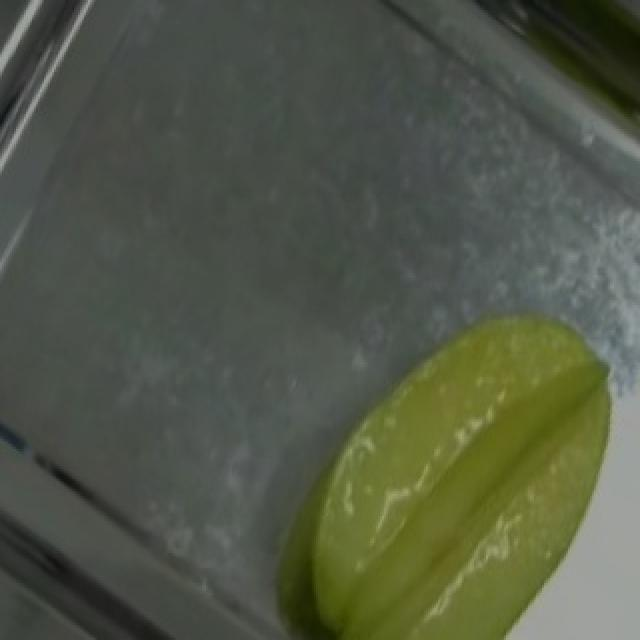fruit: (270, 265, 640, 640)
